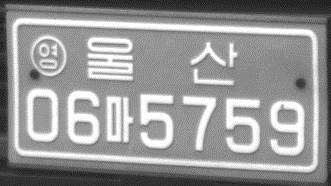0: (25, 86, 60, 142)
5: (224, 95, 261, 155), (137, 92, 175, 149)
6: (66, 87, 101, 146)
7: (180, 93, 218, 152)
9: (269, 99, 306, 157)
마: (104, 93, 134, 146)
영: (29, 35, 69, 79)
울산_D: (84, 34, 239, 89)
